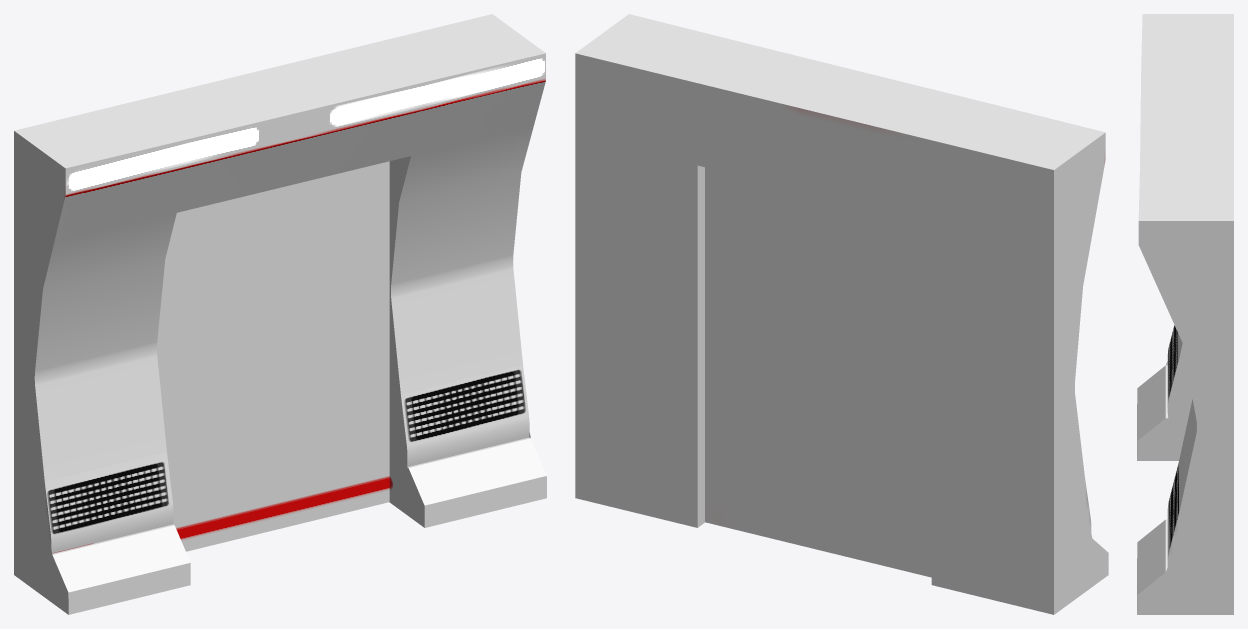
Rendered from Lv2_HandOfDominion_Door.fbx.
3 views of the same model, side by side, from view 1: azimuth 30°, elevation 25°; view 2: azimuth 150°, elevation 25°; view 3: azimuth 270°, elevation 25° (orthographic). The views are drawn at different scales.
Parts seen in each view (by area): view 1: DoorWall; view 2: DoorWall; view 3: DoorWall.
Boxes of the visible parts, <box> form: DoorWall: <box>14,14,546,614</box>; DoorWall: <box>575,14,1108,614</box>; DoorWall: <box>1137,14,1233,614</box>.
Size of the model in its own units: 515 by 457 by 102.
